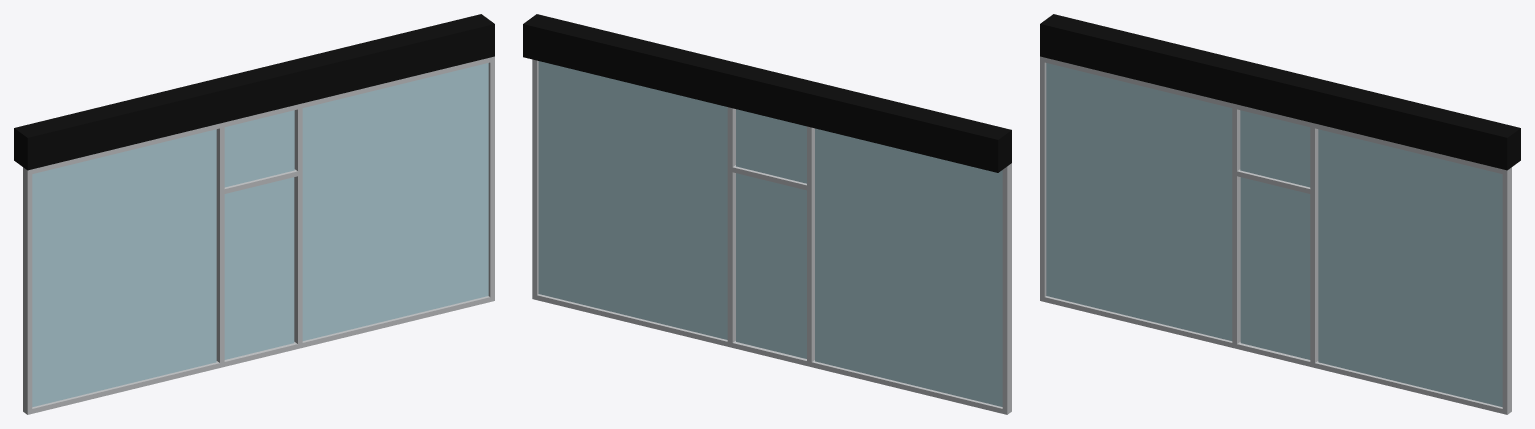
File: opening.shopfront.w6000.glb
3 renders of one model, left to right at view 1: azimuth 30°, elevation 25°; view 2: azimuth 150°, elevation 25°; view 3: azimuth 330°, elevation 25°, orthographic.
Visible parts, largest first — view 1: glazing__glass, frame__plastic_black, frame__aluminium; view 2: glazing__glass, frame__plastic_black, frame__aluminium; view 3: glazing__glass, frame__plastic_black, frame__aluminium.
Boxes of the visible parts, x1,y1,x2,y2 form: glazing__glass: (32,63,488,406); frame__plastic_black: (14,14,494,170); frame__aluminium: (23,56,494,414); glazing__glass: (538,61,1002,406); frame__plastic_black: (523,14,1011,172); frame__aluminium: (532,59,1011,414); glazing__glass: (1046,63,1502,406); frame__plastic_black: (1040,14,1520,170); frame__aluminium: (1040,56,1511,414).
Bounding box in the file's own units: 6 × 3.4 × 0.3.
